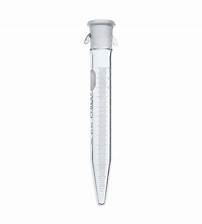Test tube: (78, 15, 120, 213)
